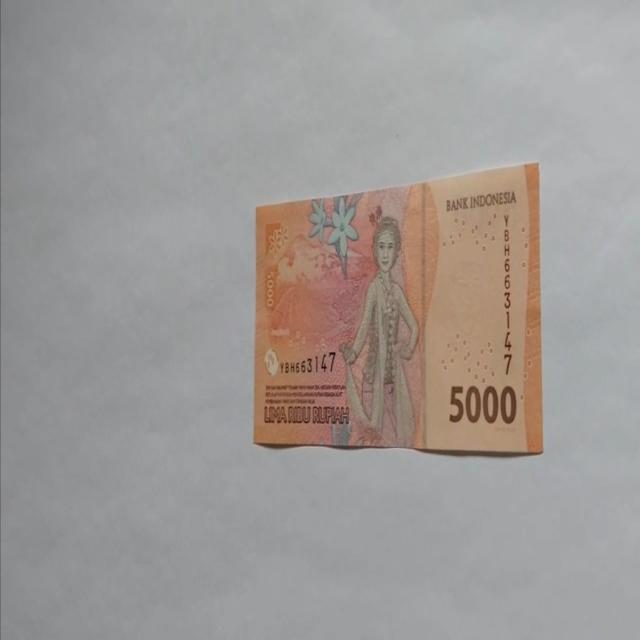lima ribu rupiah: (252, 160, 544, 454), (338, 215, 420, 447)
